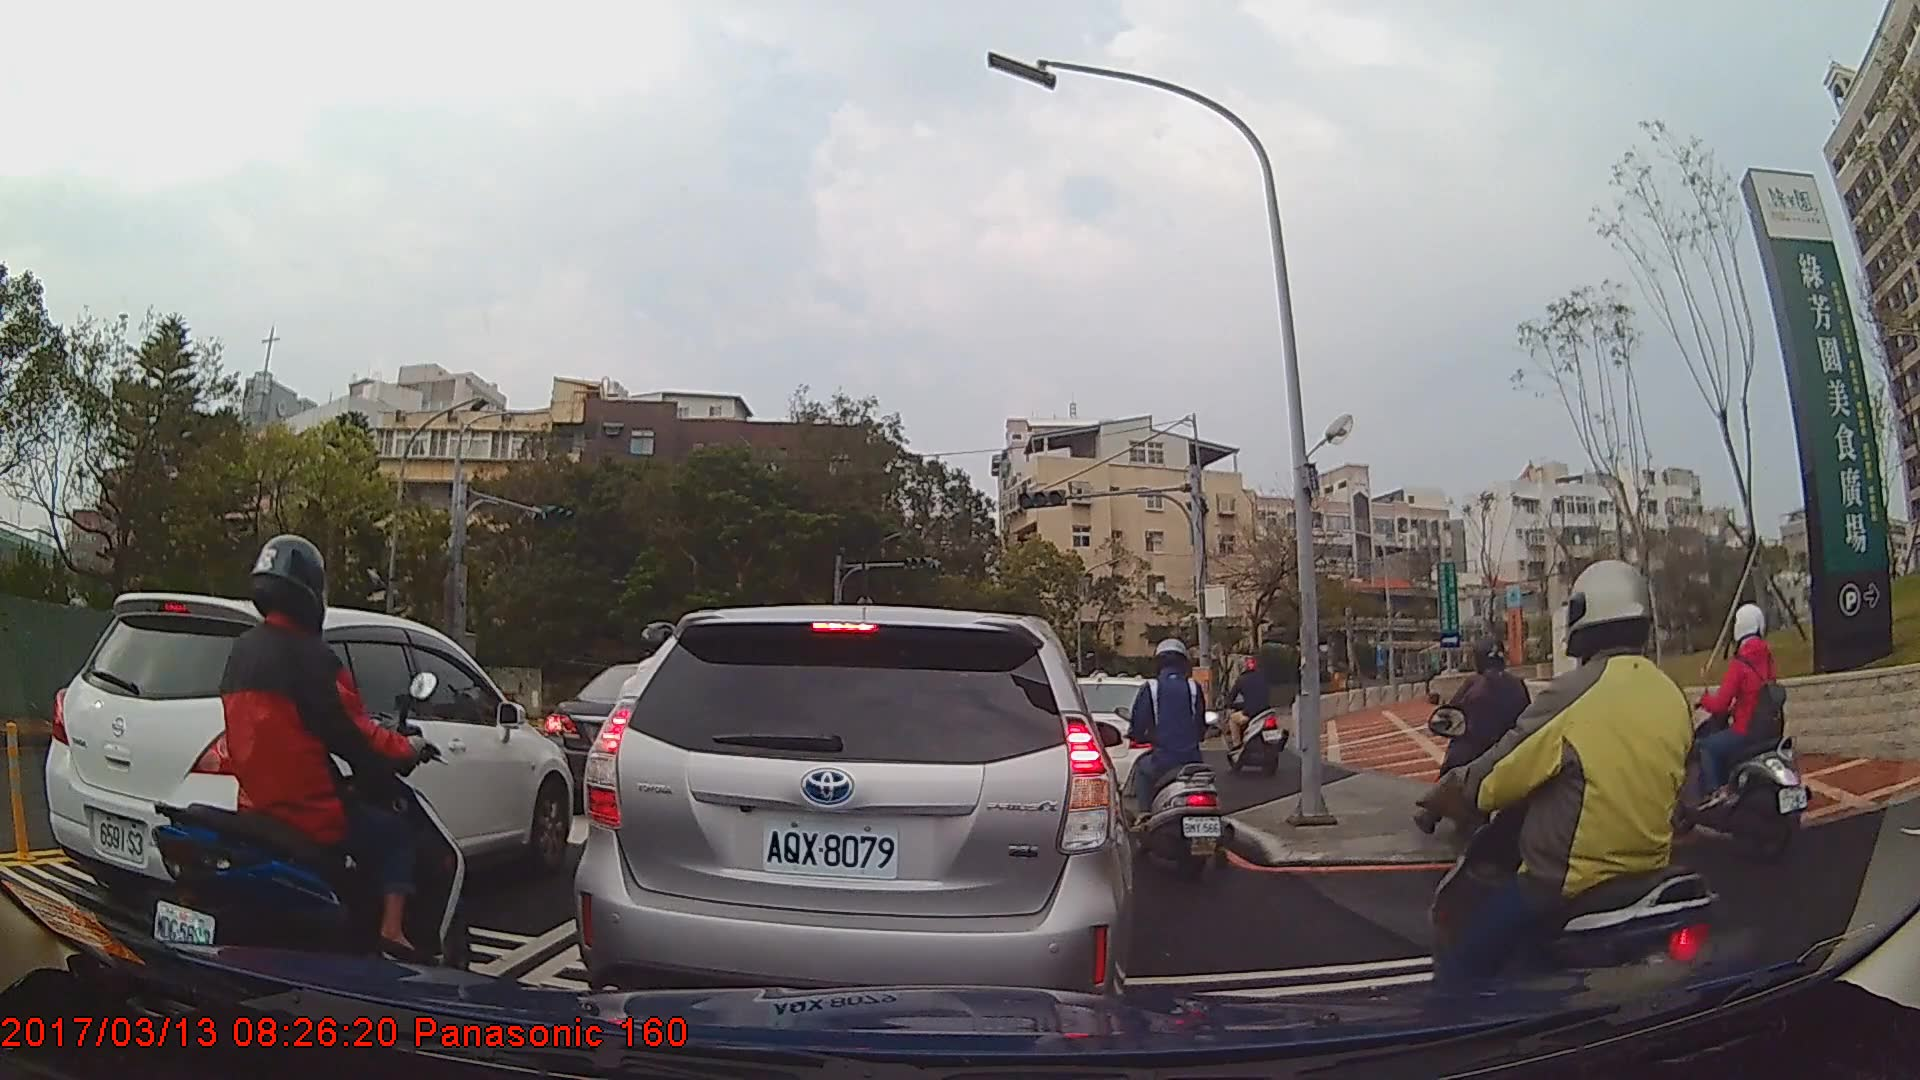rider: (155, 532, 475, 1008), (1421, 557, 1722, 1054), (1659, 600, 1814, 849), (1123, 638, 1233, 883), (1424, 636, 1539, 855), (1224, 653, 1292, 784)
vehicle: (572, 603, 1133, 1030), (44, 592, 572, 936)
